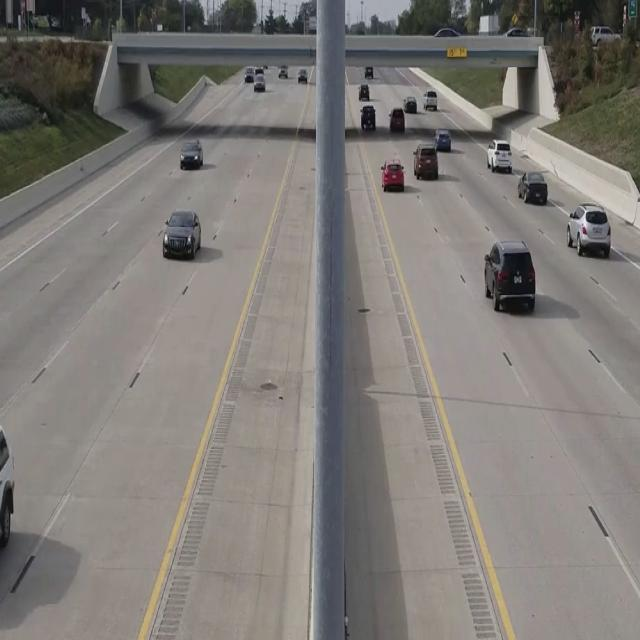car: (484, 240, 536, 312), (566, 203, 611, 257), (162, 210, 200, 259), (518, 171, 548, 205), (413, 142, 438, 178), (487, 138, 512, 171), (381, 159, 404, 191), (180, 138, 202, 168), (590, 25, 620, 47)
